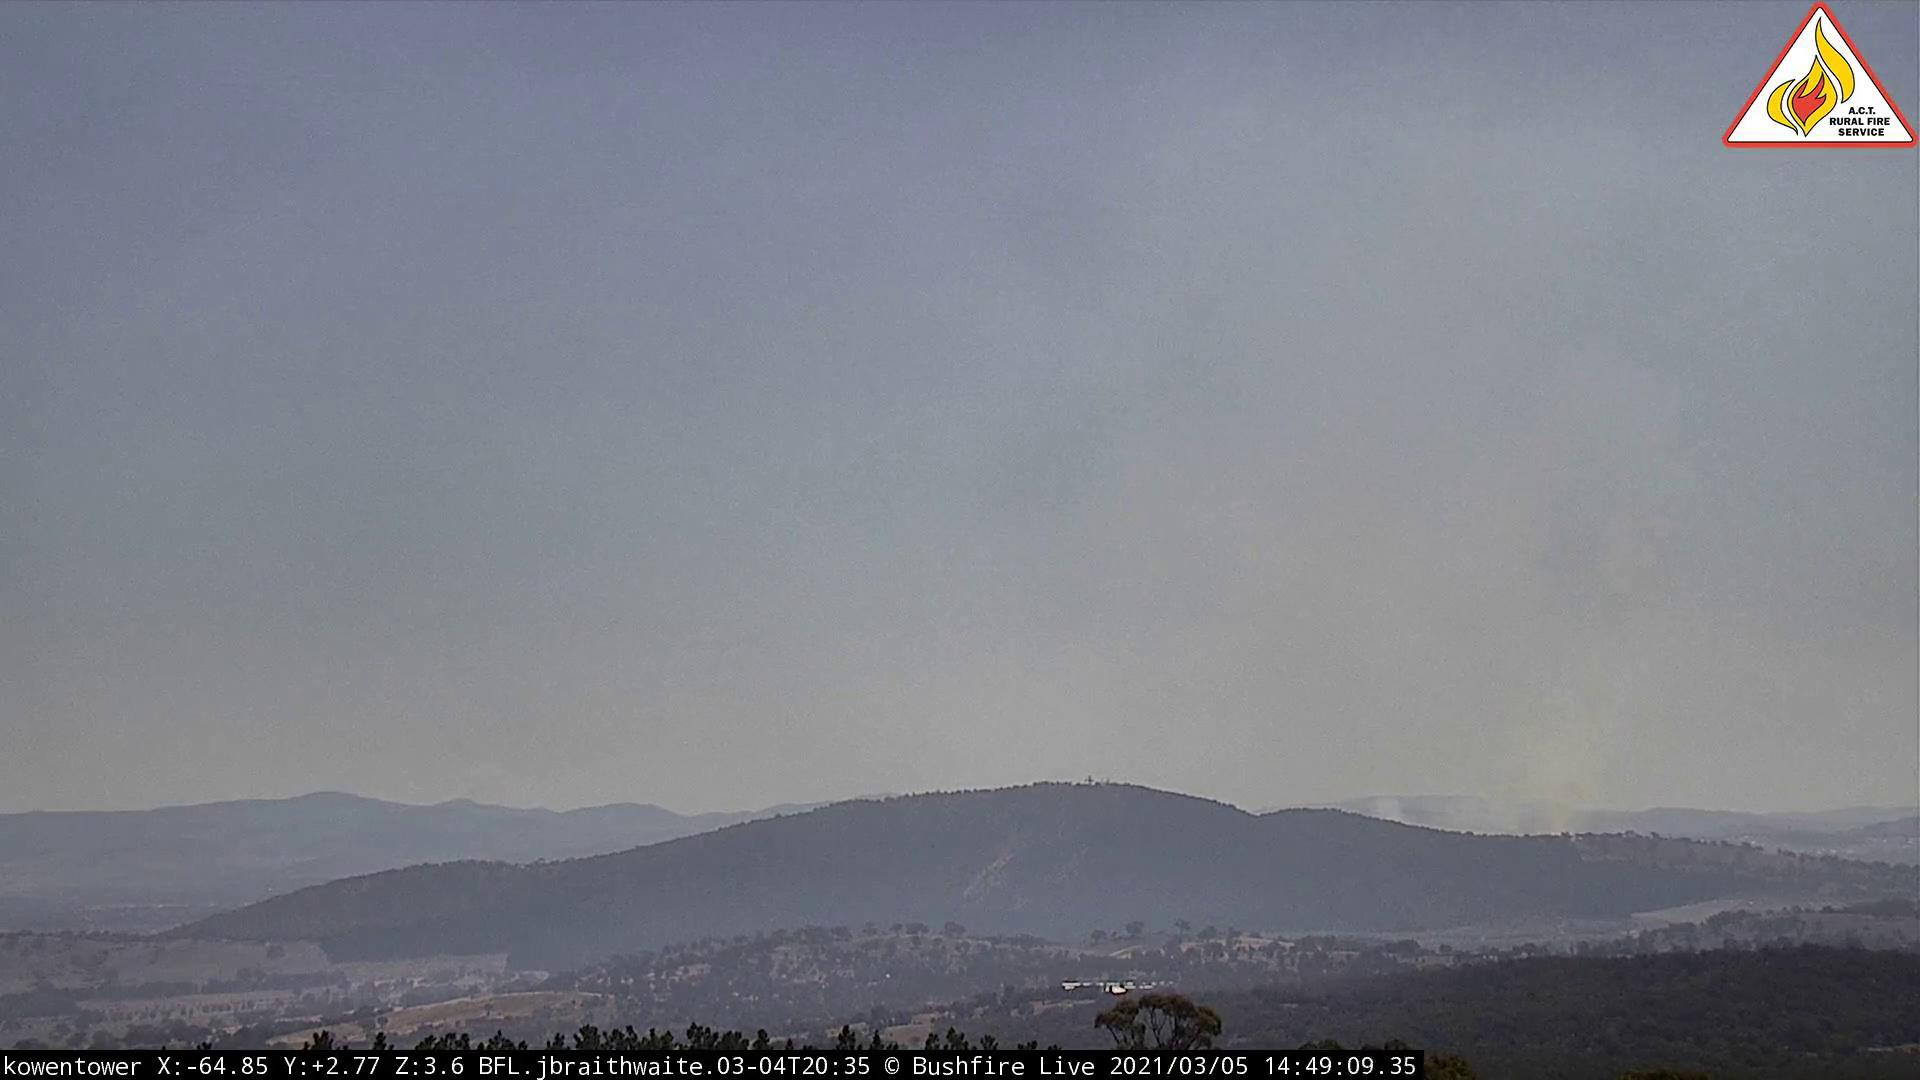Smoke: (1158, 434, 1795, 884)
